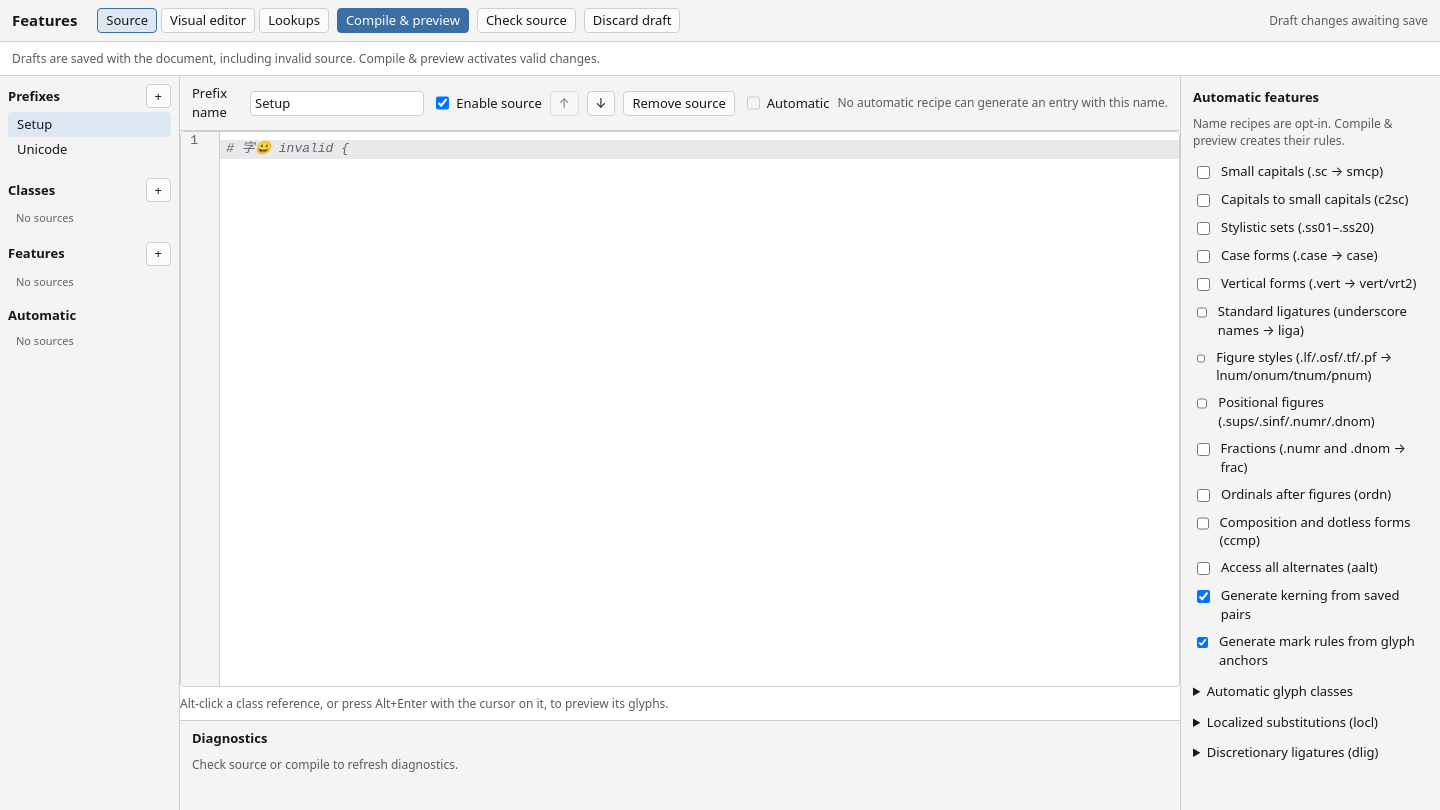
Test: FeaturesView › persists invalid Unicode source before checking while the active source stays unchanged
The image size is (1440, 810).
Expected: the field named "Feature source code" is shown, [220,140,1179,159]
Click the button "Check source".
click(526, 20)  # box [477,8,576,33]
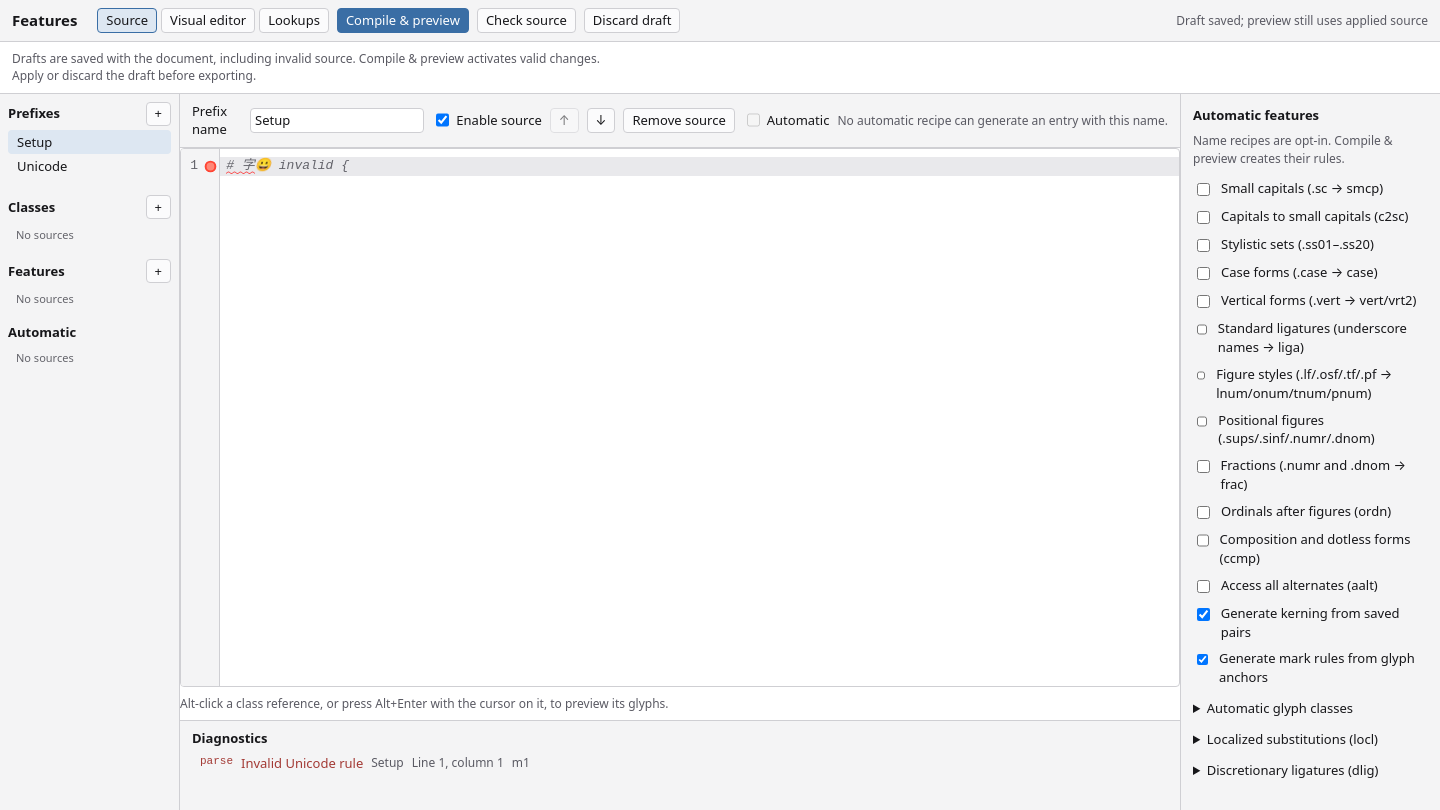
Expected: the text box labelled "# 字😀 invalid {" is shown, [220,157,1179,176]
Now the text "Invalid Unicode rule" is shown, box [241,754,363,773]
Now the message shows "Draft saved", box [1176,12,1428,29]
